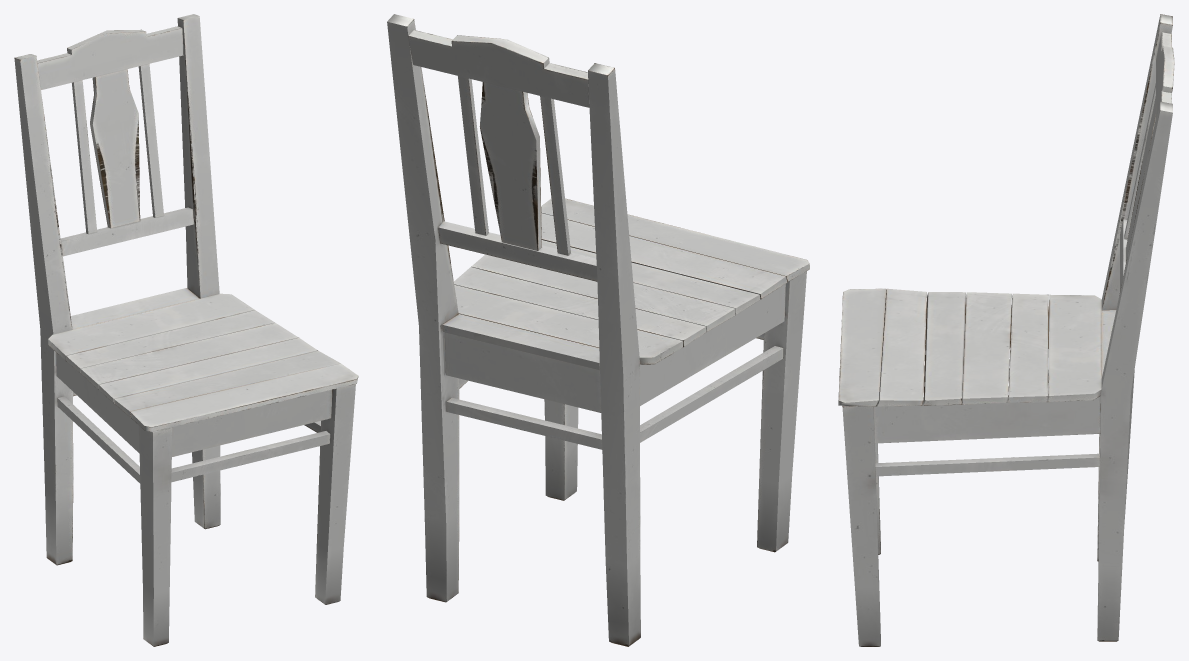
Rendered from painted_wooden_chair_01_lod1.glb.
3 renders of one model, left to right at view 1: azimuth 30°, elevation 25°; view 2: azimuth 150°, elevation 25°; view 3: azimuth 270°, elevation 25°, orthographic. The views are drawn at different scales.
Visible parts, largest first — view 1: painted_wooden_chair_01; view 2: painted_wooden_chair_01; view 3: painted_wooden_chair_01.
Boxes of the visible parts, x1,y1,x2,y2 form: painted_wooden_chair_01: (14,14,358,646); painted_wooden_chair_01: (387,14,809,646); painted_wooden_chair_01: (838,14,1174,646).
Size of the model in its own units: 0.4317 by 0.9558 by 0.5397.
Materials: 1 (1 with a texture image).
